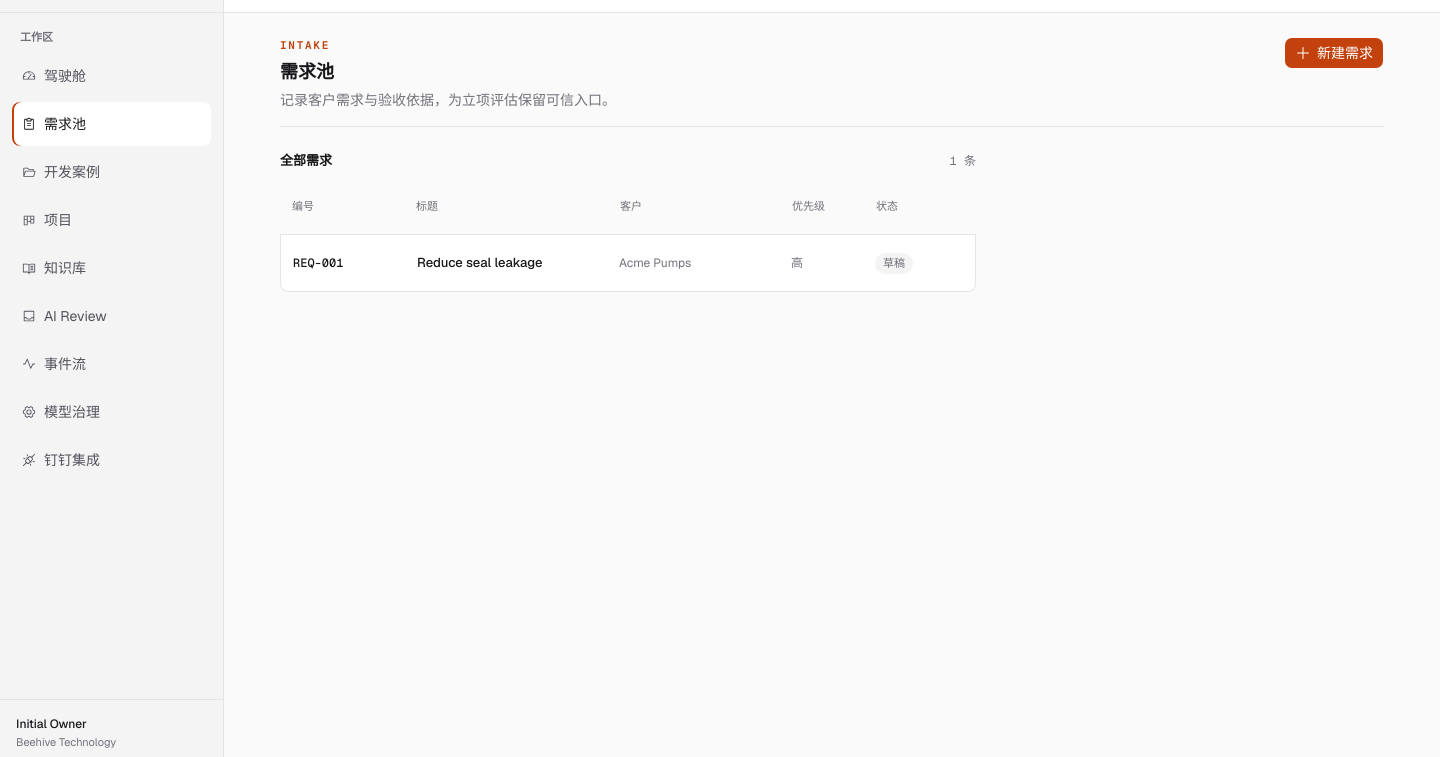
Test: RequirementPool › edits an existing requirement with a minimal patch
Check: the heading "需求池" is shown, box left=280, top=60, right=334, bottom=83
Click the button with aria-label "打开需求 REQ-001": (318, 263) left=281, top=235, right=975, bottom=291
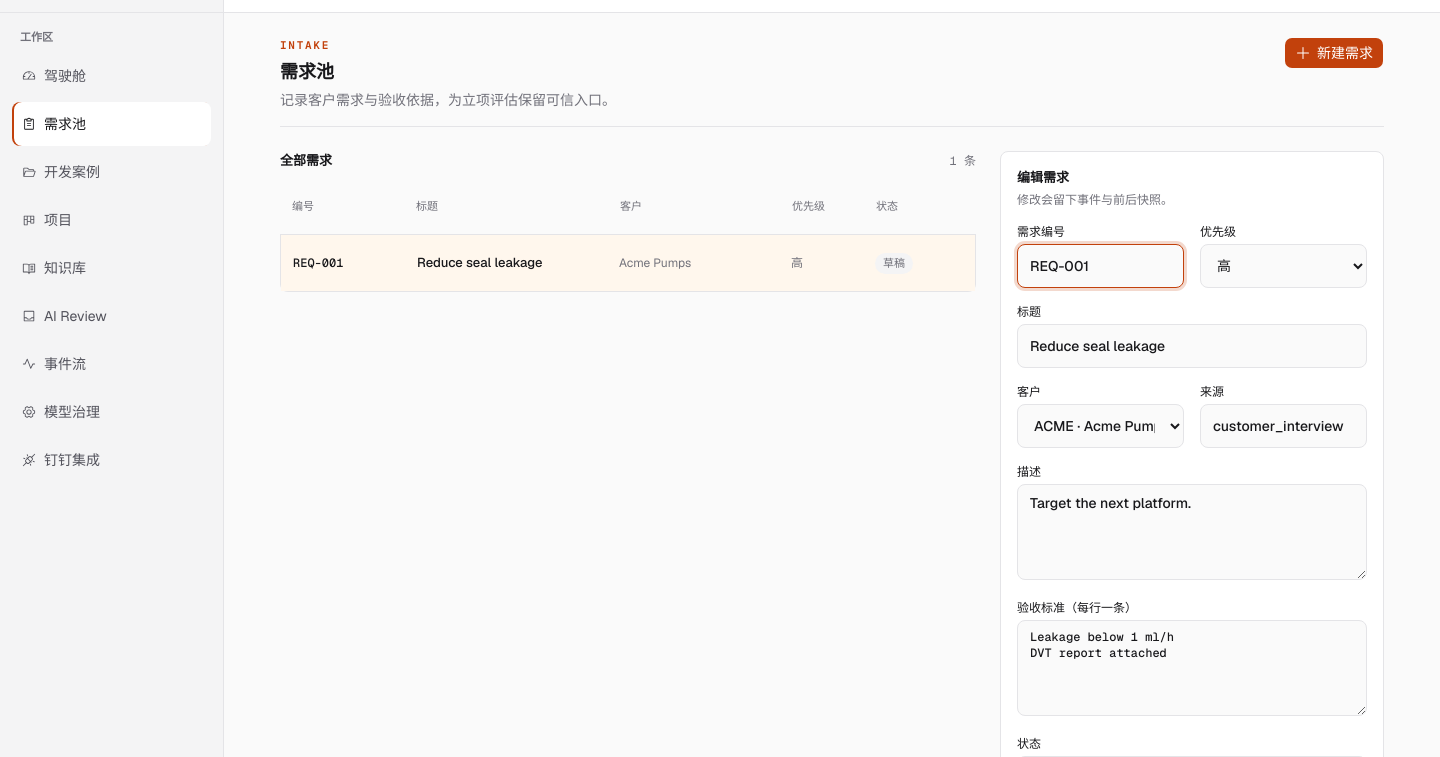
Check: the heading "编辑需求" is shown, box left=1017, top=169, right=1069, bottom=186
Check: the field labelled "标题" holds "Reduce seal leakage"
Replace the text in the field labelled "标题" with "Reduce mechanical seal leakage": (1192, 346) left=1017, top=324, right=1367, bottom=368
(page scrolled)
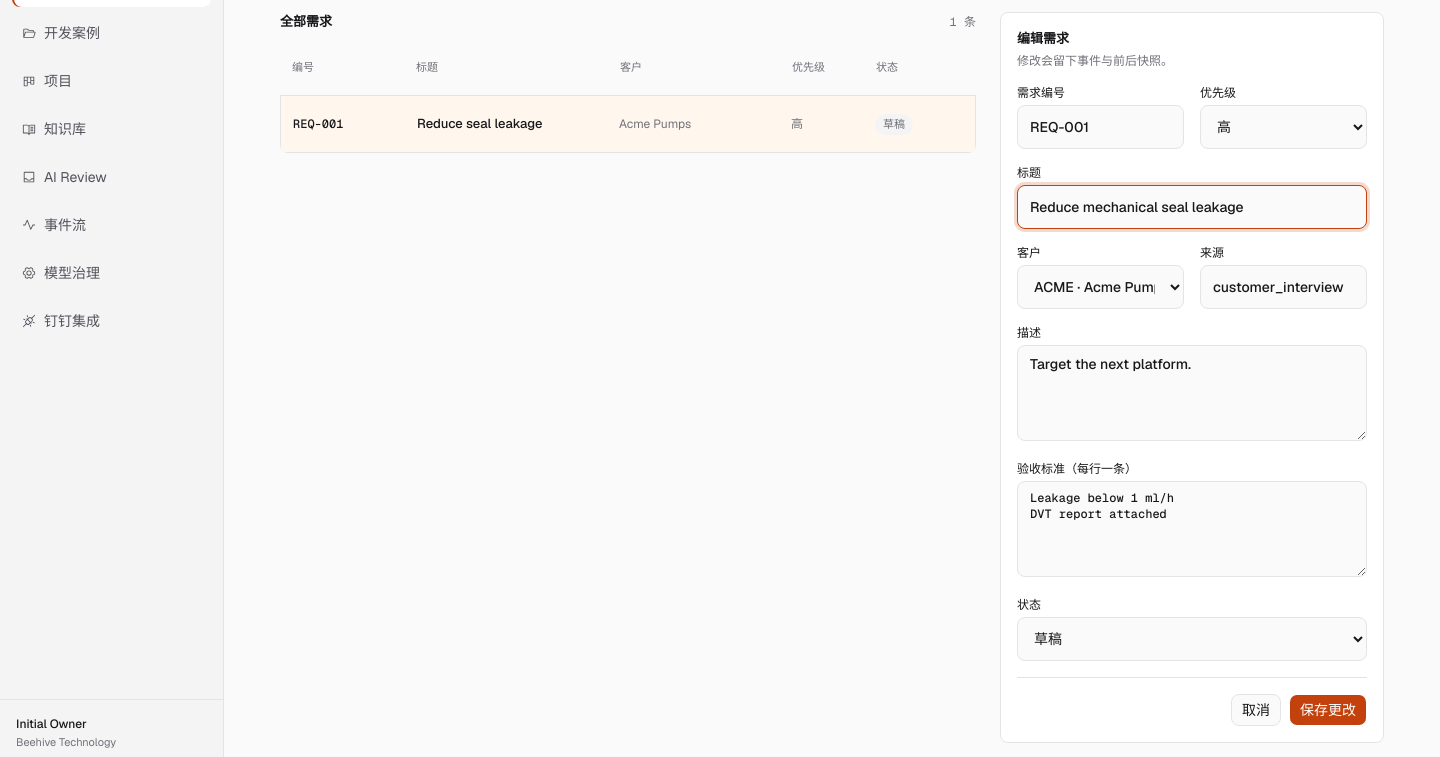
Click the button "保存更改": (1328, 710) left=1289, top=694, right=1367, bottom=726
(page scrolled)
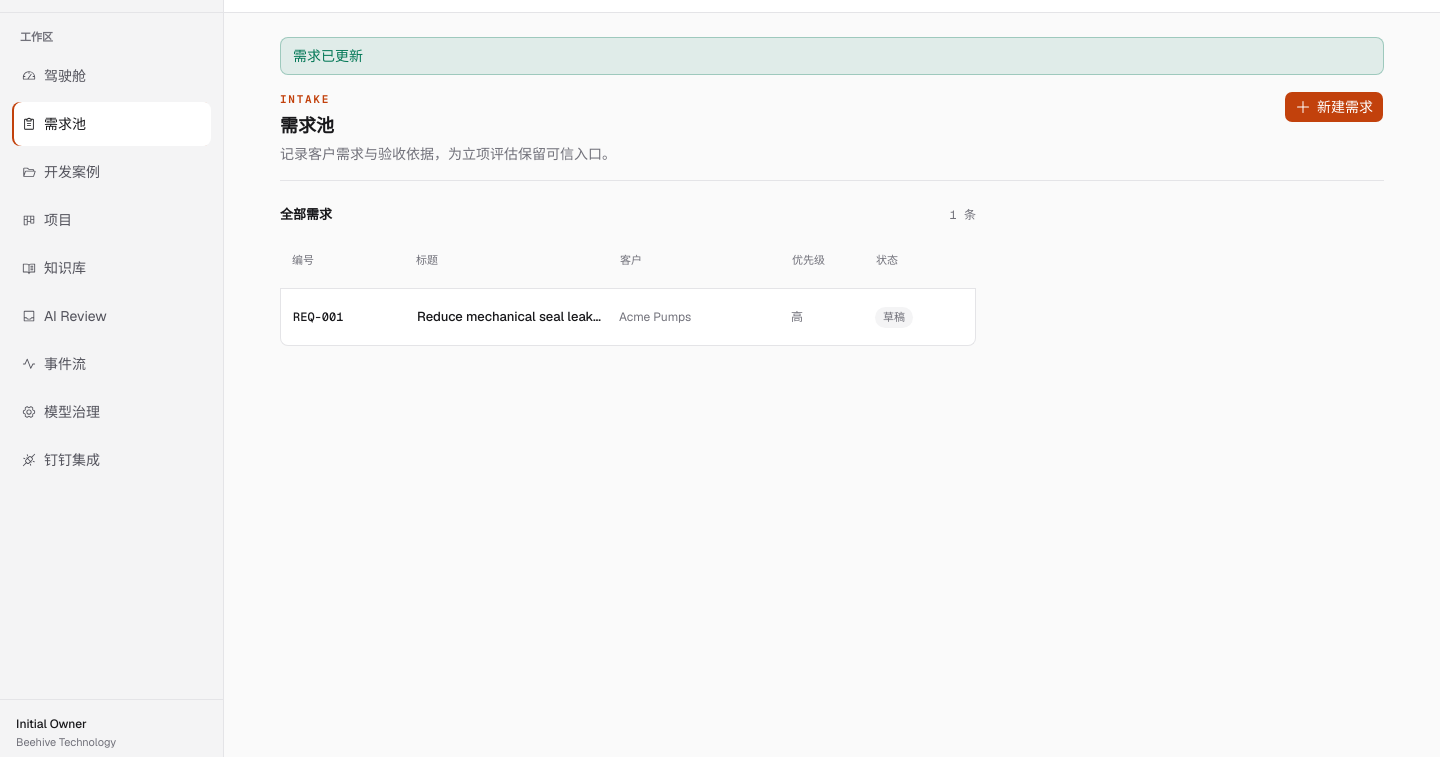
Check: the message reads "需求已更新", box left=293, top=47, right=363, bottom=65
Check: the text "Reduce mechanical seal leakage" is shown, box left=417, top=307, right=607, bottom=327
